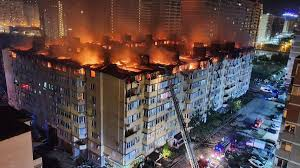fire: (30, 28, 258, 81)
